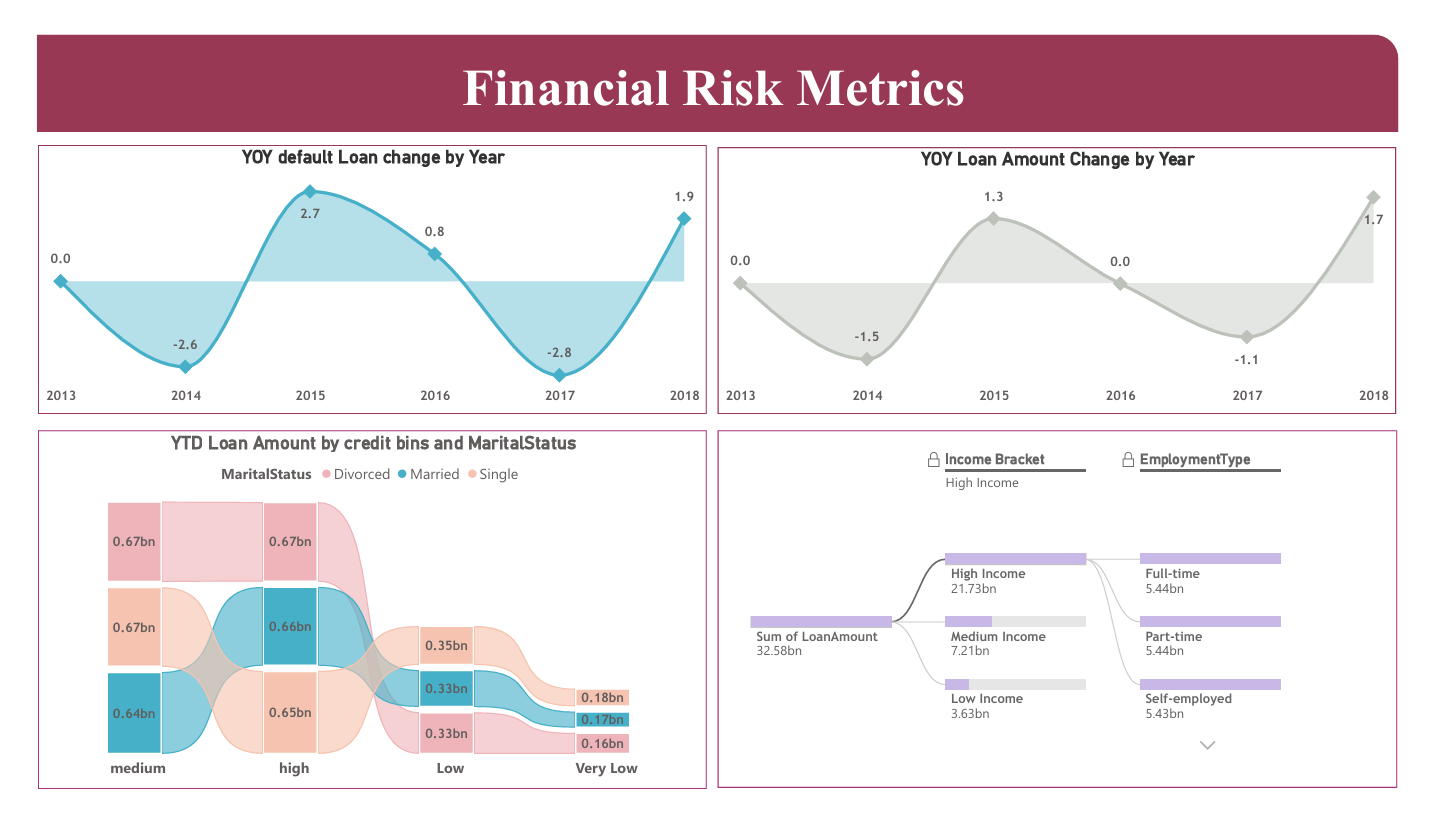

The dashboard page shown, as its layout file describes it:
{"tool":"powerbi","page":{"name":"Financial Risk Metrics","canvas":[1280,720],"ordinal":2},"visuals":[{"type":"shape","box":[11,8.6,1259.5,90.5],"z":0},{"type":"lineChart","fields":{"Y":["Measures Table 3.YOY default Loan change"],"Category":["Loan_default.Year"]},"box":[12.2,111.3,618.8,248.2],"z":1000},{"type":"lineChart","fields":{"Category":["Loan_default.Year"],"Y":["Measures Table 3.YOY Loan Amount Change"]},"box":[640.8,112.5,628.5,247],"z":2000},{"type":"ribbonChart","fields":{"Category":["Loan_default.credit bins"],"Series":["Loan_default.MaritalStatus"],"Y":["Measures Table 3.YTD Loan Amount"]},"box":[12.2,375.4,618.8,331.4],"z":2001},{"type":"decompositionTreeVisual","fields":{"Analyze":["Sum(Loan_default.LoanAmount)"],"ExplainBy":["Loan_default.Income Bracket","Loan_default.EmploymentType"]},"box":[641,375,629,331],"z":2002}]}

Visuals, with their boxes in screenshot pixels (x1, y1, x2, y2), scaled from the page's 1280x720 canvas onto the 1432x827 screenshot:
shape: bbox(12, 10, 1421, 114)
lineChart - Measures Table 3.YOY default Loan change x Loan_default.Year: bbox(14, 128, 706, 413)
lineChart - Loan_default.Year x Measures Table 3.YOY Loan Amount Change: bbox(717, 129, 1420, 413)
ribbonChart - Loan_default.credit bins x Loan_default.MaritalStatus: bbox(14, 431, 706, 812)
decompositionTreeVisual - Sum(Loan_default.LoanAmount) x Loan_default.Income Bracket: bbox(717, 431, 1421, 811)
